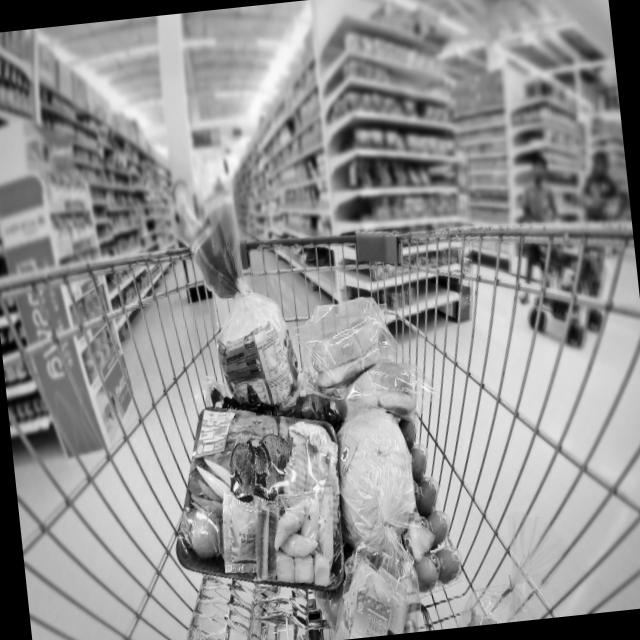bap cai: (329, 405, 421, 553)
bread: (180, 200, 298, 413), (323, 540, 420, 640)
egg: (394, 415, 460, 590)
